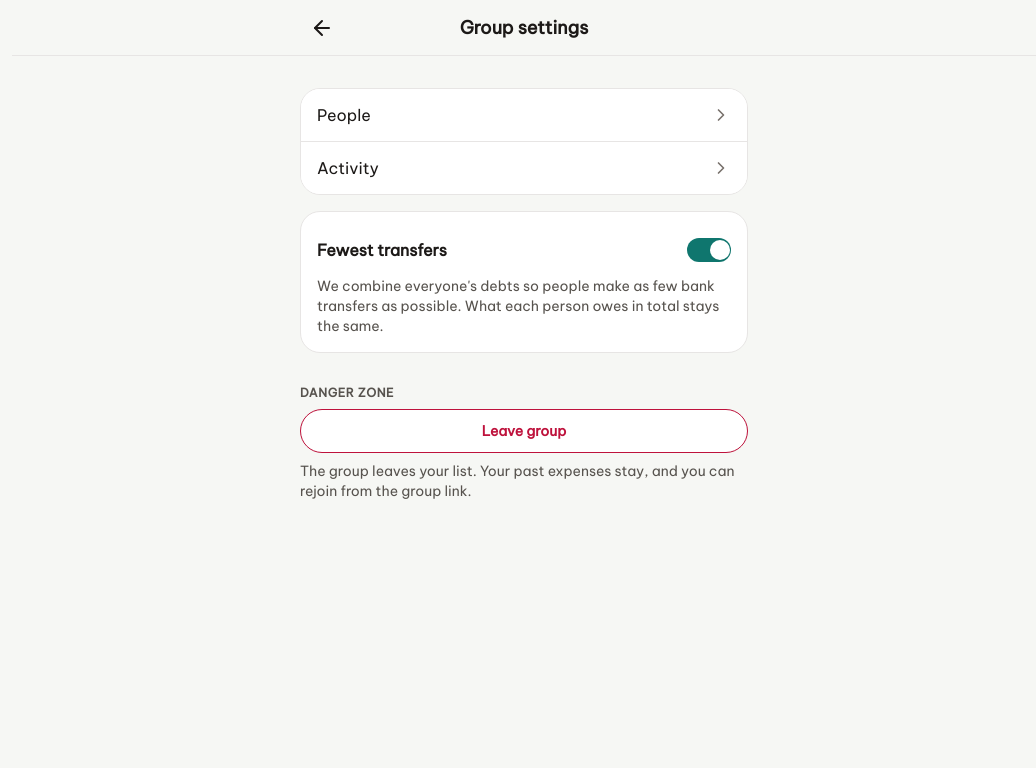
Scenario: Leaving a group › a failed leave shows the error with Try again
Click the button "Leave group" at [524, 431], box [300,409,748,453]
(page scrolled)
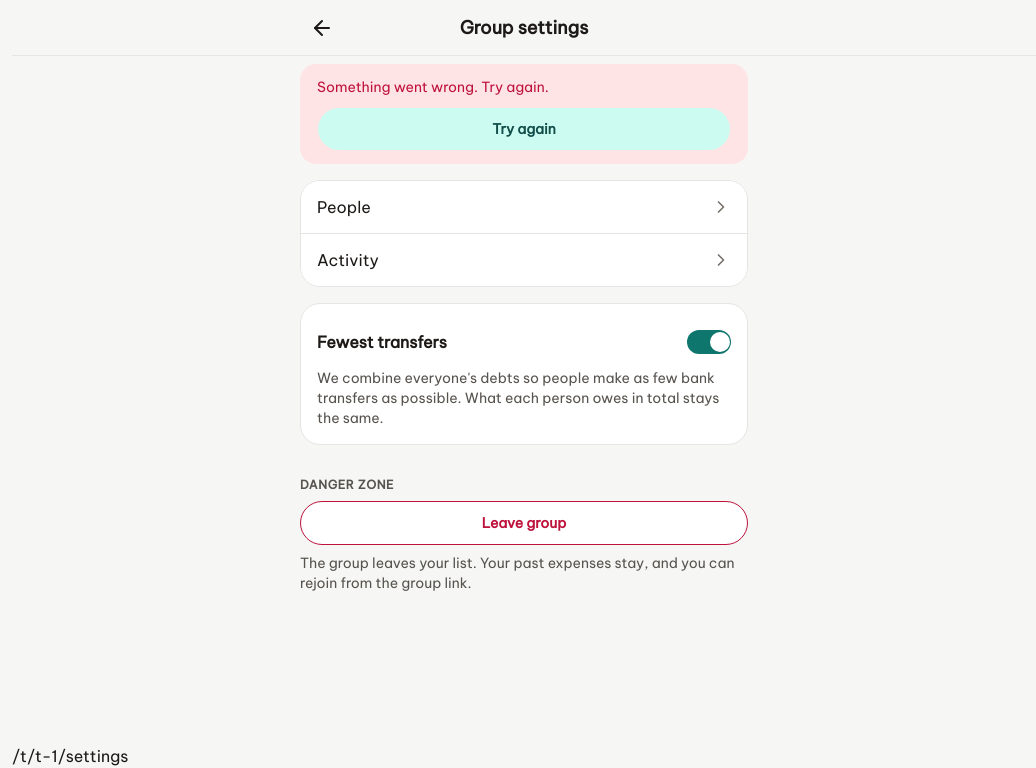
Expected: the text with test id "location" reads "/t/t-1/settings", [12,746,128,766]
Now the button "Try again" is shown, box [317,107,731,151]
